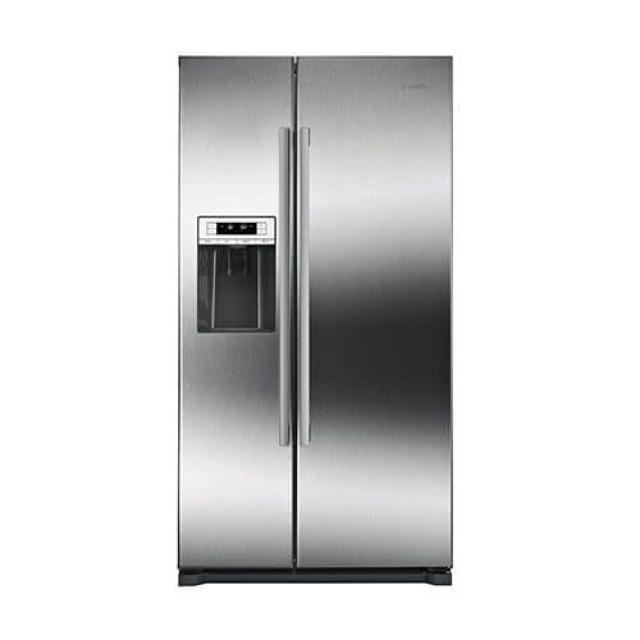obstacle: (175, 54, 453, 586)
